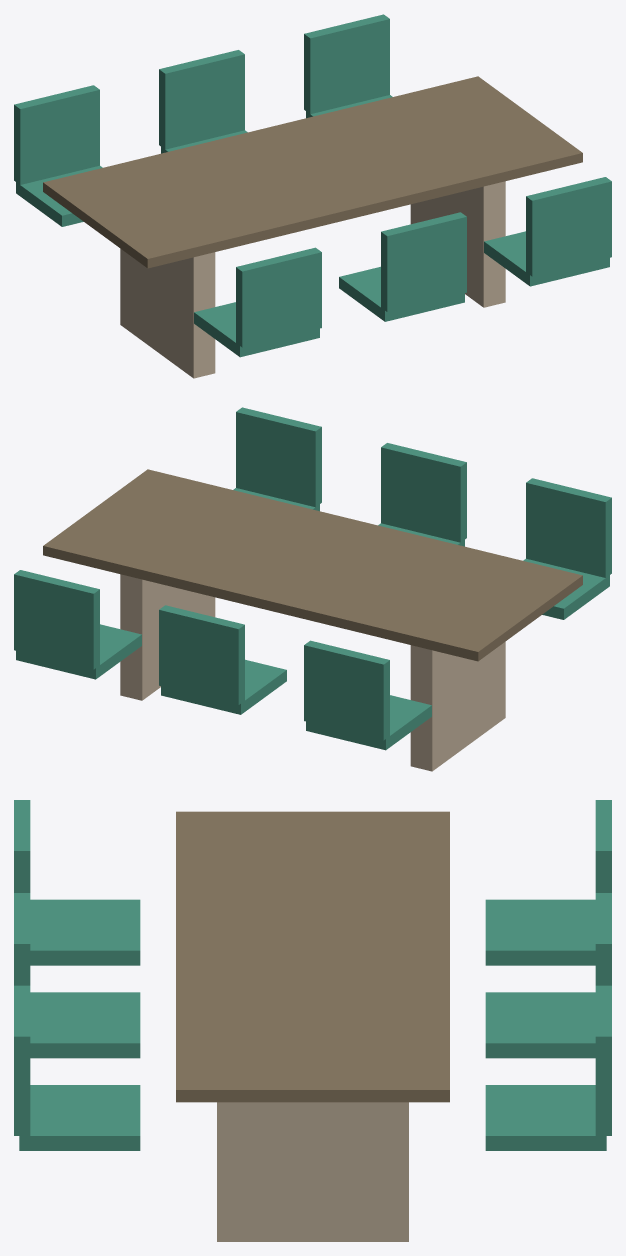
The model's file is city_meeting_table.glb.
The picture shows the model from 3 angles, top to bottom: view 1: azimuth 30°, elevation 25°; view 2: azimuth 150°, elevation 25°; view 3: azimuth 270°, elevation 25°; orthographic projection. The views are drawn at different scales.
Visible parts, largest first — view 1: CityMeetingTable_Top, CityMeetingTable_Trestle-0.8, CityMeetingTable_Back4, CityMeetingTable_Back5, CityMeetingTable_Back0, CityMeetingTable_Back1, CityMeetingTable_Back2, CityMeetingTable_Back3, CityMeetingTable_Trestle0.8, CityMeetingTable_Seat0, CityMeetingTable_Seat2, CityMeetingTable_Seat1 (+1 smaller); view 2: CityMeetingTable_Top, CityMeetingTable_Trestle-0.8, CityMeetingTable_Back1, CityMeetingTable_Back2, CityMeetingTable_Back0, CityMeetingTable_Back3, CityMeetingTable_Back4, CityMeetingTable_Back5, CityMeetingTable_Trestle0.8, CityMeetingTable_Seat3, CityMeetingTable_Seat5, CityMeetingTable_Seat4 (+1 smaller); view 3: CityMeetingTable_Top, CityMeetingTable_Trestle0.8, CityMeetingTable_Seat2, CityMeetingTable_Seat5, CityMeetingTable_Seat0, CityMeetingTable_Seat1, CityMeetingTable_Seat3, CityMeetingTable_Seat4, CityMeetingTable_Back2, CityMeetingTable_Back5, CityMeetingTable_Back0, CityMeetingTable_Back1 (+2 smaller).
Part boxes in pixels (x1,y1,x2,y2): CityMeetingTable_Top: (43, 76, 582, 268); CityMeetingTable_Trestle-0.8: (120, 248, 215, 378); CityMeetingTable_Back4: (159, 50, 244, 149); CityMeetingTable_Back5: (304, 14, 389, 114); CityMeetingTable_Back0: (236, 247, 321, 347); CityMeetingTable_Back1: (381, 212, 466, 311); CityMeetingTable_Back2: (526, 177, 611, 276); CityMeetingTable_Back3: (14, 85, 99, 184); CityMeetingTable_Trestle0.8: (410, 181, 505, 307); CityMeetingTable_Seat0: (194, 302, 319, 357); CityMeetingTable_Seat2: (484, 231, 609, 286); CityMeetingTable_Seat1: (339, 266, 464, 321); CityMeetingTable_Top: (43, 469, 582, 661); CityMeetingTable_Trestle-0.8: (410, 641, 505, 771); CityMeetingTable_Back1: (381, 443, 466, 542); CityMeetingTable_Back2: (236, 407, 321, 507); CityMeetingTable_Back0: (526, 478, 611, 577); CityMeetingTable_Back3: (304, 640, 389, 740); CityMeetingTable_Back4: (159, 605, 244, 704); CityMeetingTable_Back5: (14, 570, 99, 669); CityMeetingTable_Trestle0.8: (120, 574, 215, 700); CityMeetingTable_Seat3: (306, 695, 431, 750); CityMeetingTable_Seat5: (16, 624, 141, 679); CityMeetingTable_Seat4: (161, 659, 286, 714); CityMeetingTable_Top: (176, 811, 449, 1102); CityMeetingTable_Trestle0.8: (217, 1102, 408, 1241); CityMeetingTable_Seat2: (19, 1085, 140, 1150); CityMeetingTable_Seat5: (485, 1085, 606, 1150); CityMeetingTable_Seat0: (30, 899, 140, 965); CityMeetingTable_Seat1: (30, 992, 140, 1058); CityMeetingTable_Seat3: (485, 899, 595, 965); CityMeetingTable_Seat4: (485, 992, 595, 1058); CityMeetingTable_Back2: (14, 985, 30, 1135); CityMeetingTable_Back5: (595, 985, 611, 1135); CityMeetingTable_Back0: (14, 800, 30, 892); CityMeetingTable_Back1: (14, 893, 30, 985).
Bounding box in the file's own units: 2.4 × 0.9 × 2.18.
